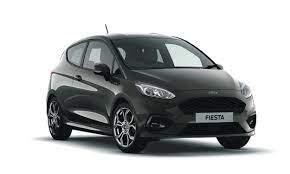Ford: (45, 30, 258, 152)
